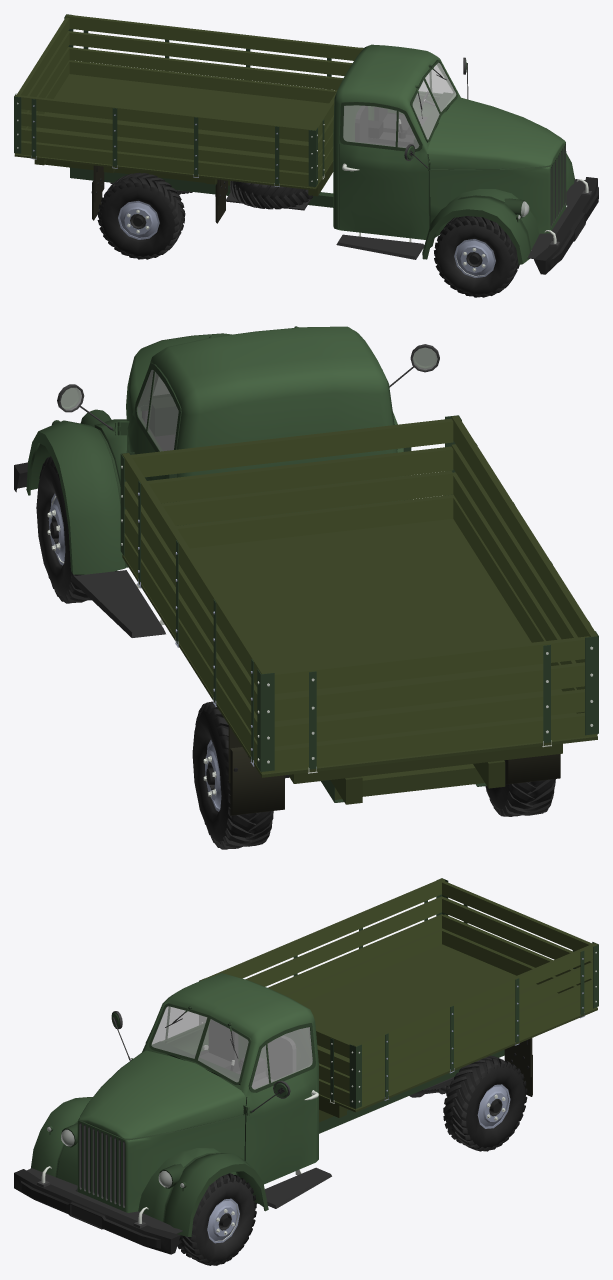
Rendered from GAZ-51-truck.fbx.
The picture shows the model from 3 angles, top to bottom: view 1: azimuth 30°, elevation 25°; view 2: azimuth 150°, elevation 25°; view 3: azimuth 270°, elevation 25°; orthographic projection. The views are drawn at different scales.
Parts seen in each view (by area): view 1: GAS_51; view 2: GAS_51; view 3: GAS_51.
Part boxes in pixels (x1,y1,x2,y2): GAS_51: [14, 14, 598, 297]; GAS_51: [14, 326, 598, 849]; GAS_51: [14, 878, 598, 1265].
Size of the model in its own units: 566 by 211 by 566.
